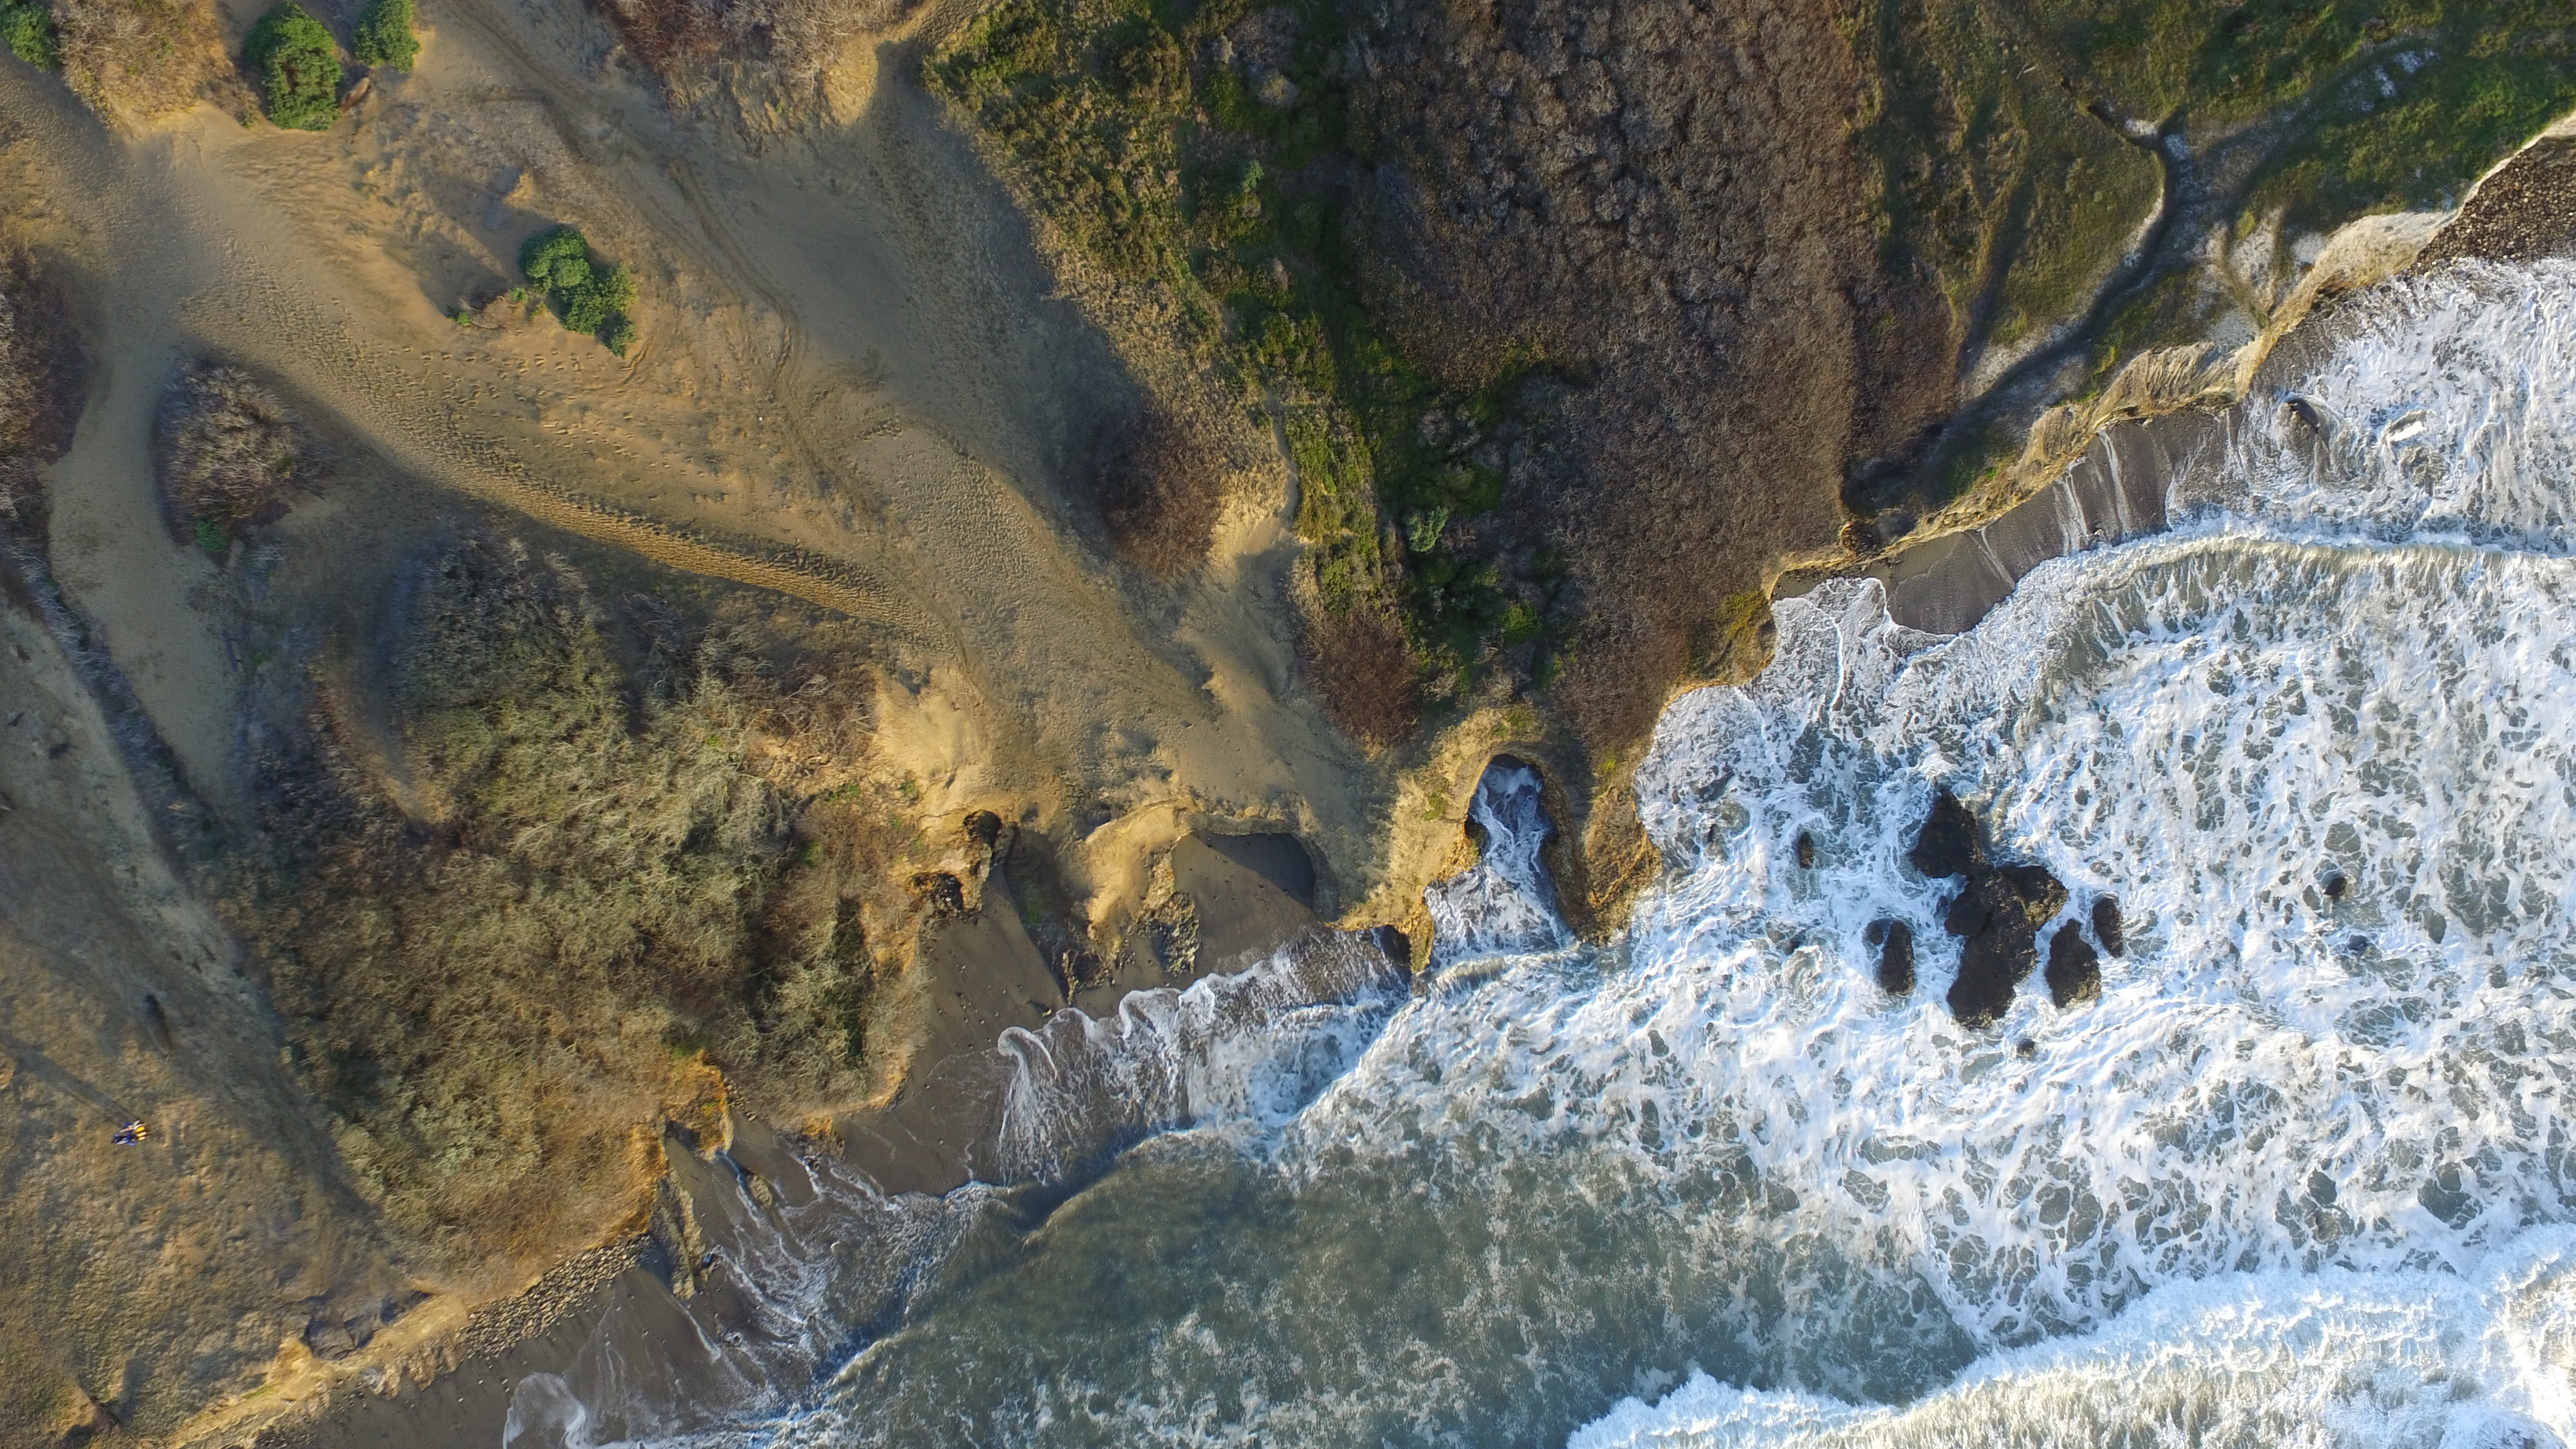adult male: (140, 991, 177, 1065), (2286, 396, 2325, 435)
male juvenile / female juvenile / adult female: (336, 78, 377, 117), (1028, 1000, 1054, 1023), (1706, 824, 1720, 844)
